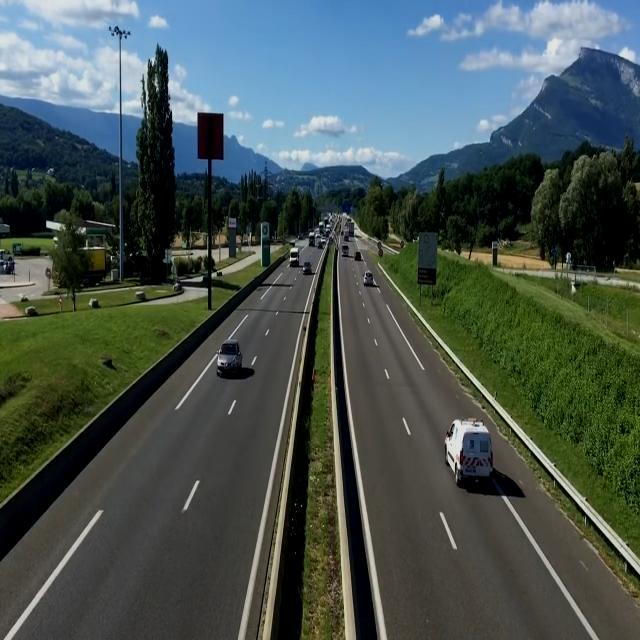Bus: (341, 243, 349, 257)
Car: (216, 338, 242, 375), (363, 271, 373, 286), (302, 261, 312, 273), (355, 251, 362, 261)
Truck: (444, 416, 494, 487), (289, 246, 300, 266), (308, 232, 315, 246)
